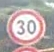limite 30: (5, 8, 46, 45)
